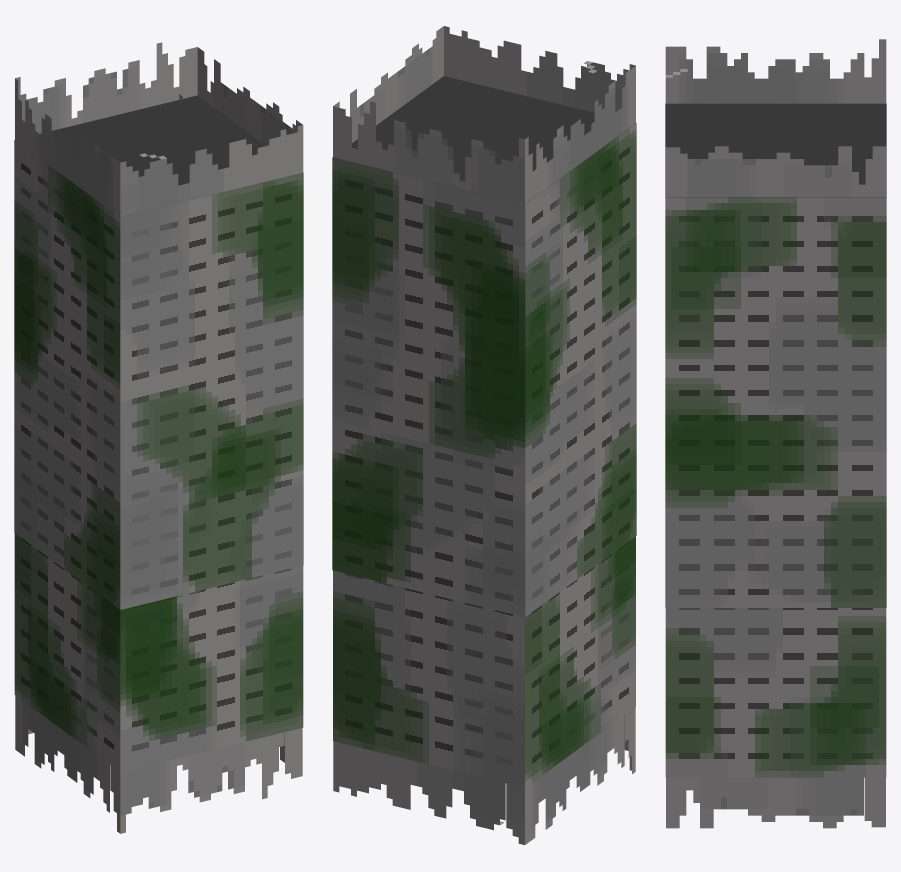
The model's file is Skybuilding 4.gltf.
3 views of the same model, side by side, from view 1: azimuth 30°, elevation 25°; view 2: azimuth 150°, elevation 25°; view 3: azimuth 270°, elevation 25° (orthographic). The views are drawn at different scales.
Parts seen in each view (by area): view 1: Main (×2), cube (×7); view 2: Main (×2), cube (×7); view 3: Main (×2), cube (×6).
Part boxes in pixels (<box>): Main (×2): <box>14,95,303,772</box>; cube (×7): <box>15,42,303,833</box>; Main (×2): <box>332,76,636,787</box>; cube (×7): <box>333,26,635,844</box>; Main (×2): <box>665,103,886,777</box>; cube (×6): <box>665,39,886,828</box>.
Bounding box in the file's own units: 0.1253 × 0.4748 × 0.1253.
5 materials, 5 textured.
